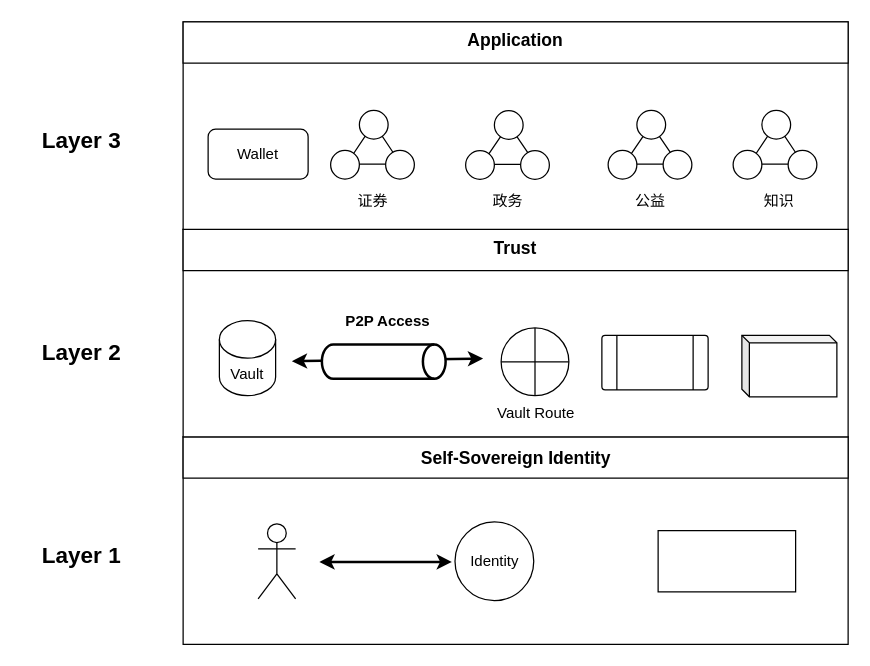
This 870x666 diagram has some shape labels left out. Each missing label, with the centre of its shape:
"Data Factory" goes at [654,362].
"ID Register" goes at [726,560].
"Shared Ledger" goes at [789,365].
"用户" goes at [276,560].
